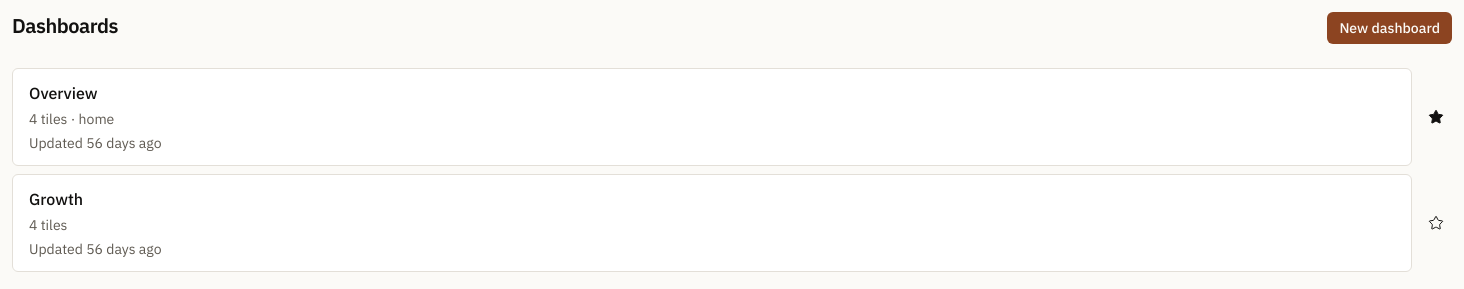
Test: Dashboards — the home star › sets a dashboard home, and clears the star on the one that was
Click the button named "Set \"Growth\" as home dashboard": coordinates (1436, 223) [1420,207,1452,239]
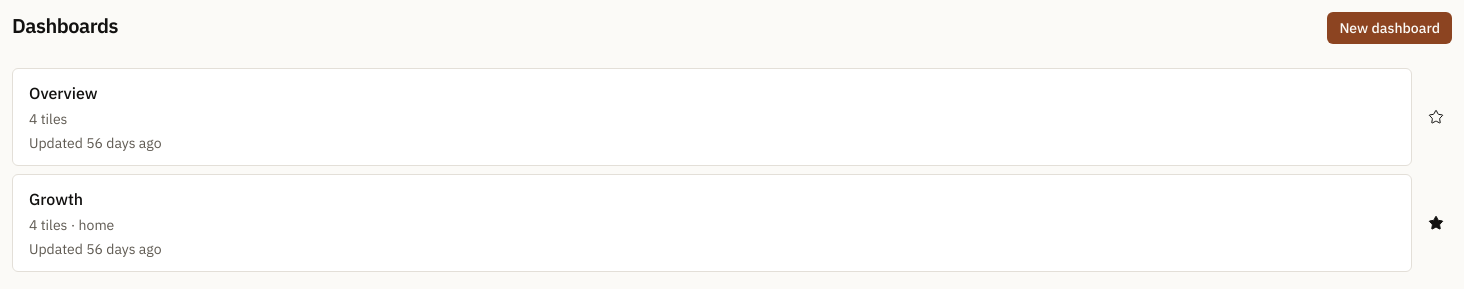
Result: the button named "\"Growth\" is the home dashboard — click to unset" is shown at [1420,207,1452,239]
Result: the button named "Set \"Overview\" as home dashboard" is shown at [1420,101,1452,133]
